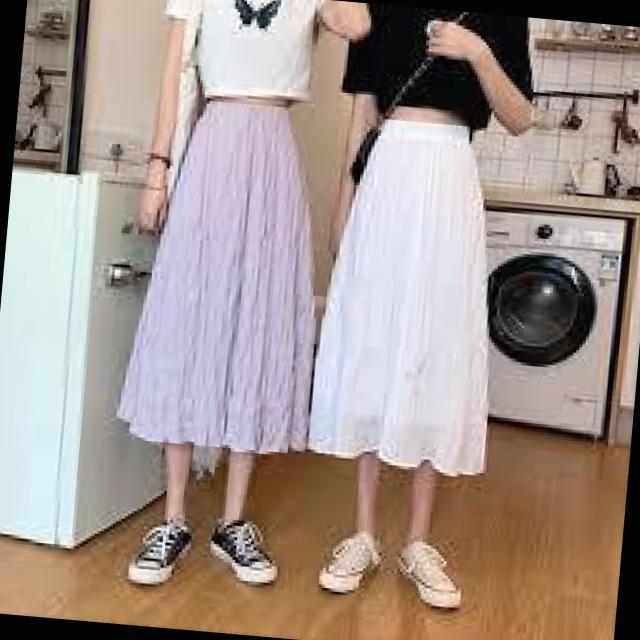skirt: (297, 112, 549, 488), (108, 89, 347, 472)
